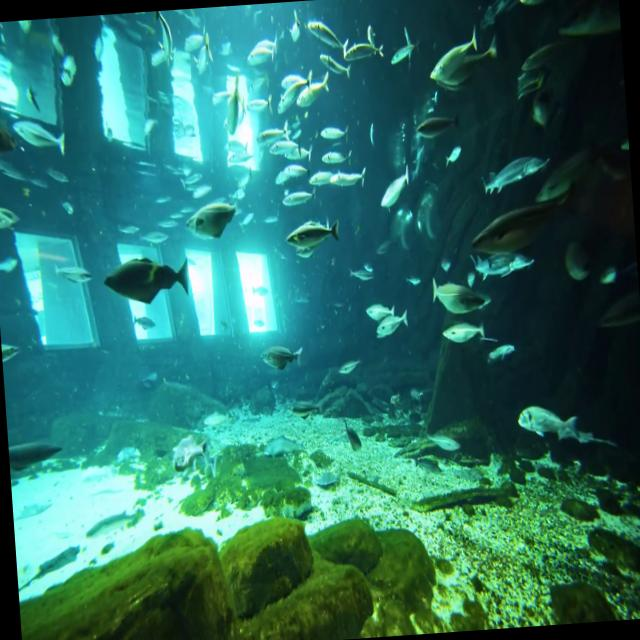fish: (506, 387, 624, 462), (94, 246, 194, 318), (466, 189, 564, 254), (426, 29, 503, 94), (446, 242, 534, 292), (472, 152, 552, 202), (8, 105, 76, 160), (424, 272, 494, 321), (178, 193, 242, 244), (282, 212, 346, 258), (213, 68, 249, 146), (305, 0, 349, 57), (46, 248, 96, 298), (364, 302, 414, 350), (270, 67, 314, 120), (378, 28, 428, 74), (372, 162, 412, 218), (340, 31, 386, 74), (409, 109, 461, 144), (435, 314, 487, 348), (478, 329, 518, 373), (314, 119, 356, 154), (360, 287, 395, 326), (334, 157, 370, 191), (308, 62, 337, 104), (0, 191, 21, 243), (238, 44, 276, 70)
